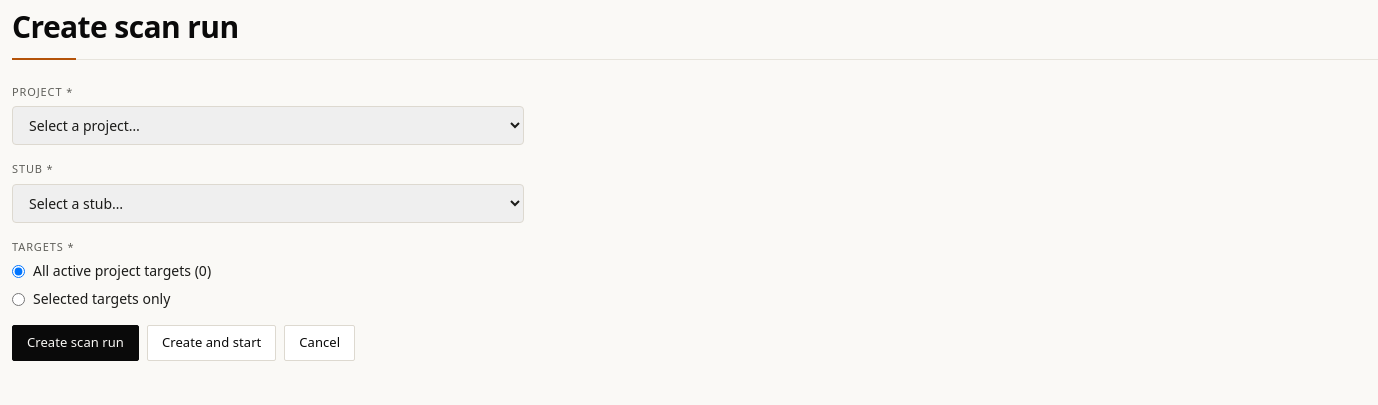
Test case: CreateScanRun — validation › requires project, stub, and at least one target
Click the button "Create scan run" at coordinates (76, 343), box x1=12 y1=325 x2=139 y2=361
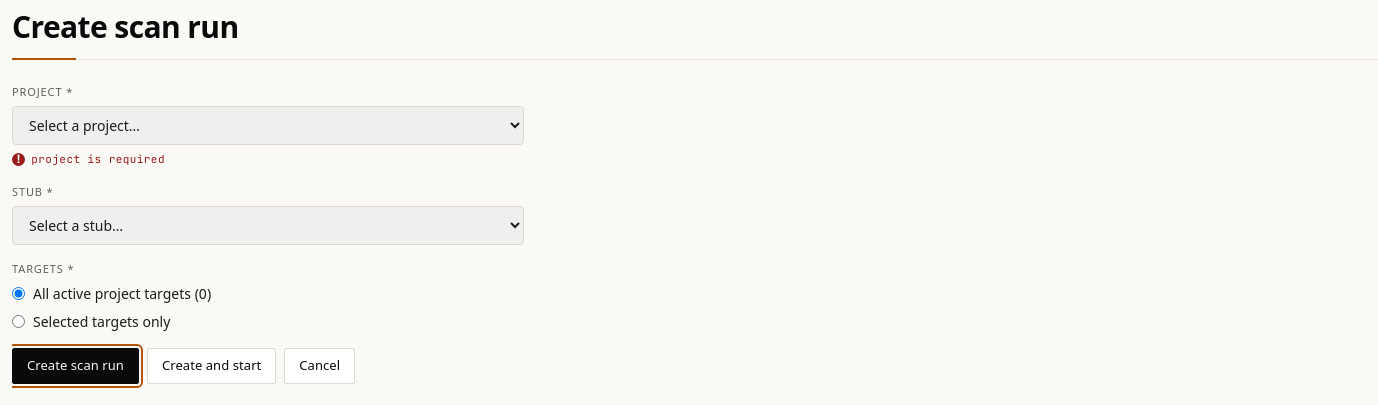
Expected: the text "project is required" is shown, x1=31 y1=152 x2=165 y2=166
